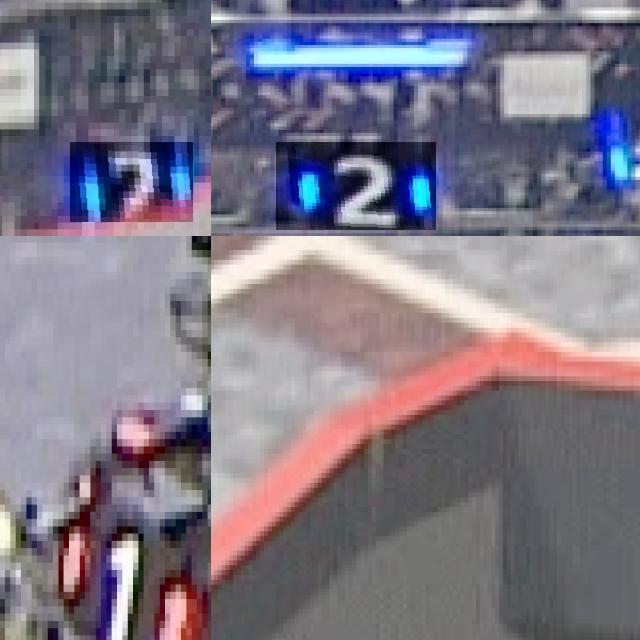B2: (276, 142, 436, 230), (70, 142, 193, 222)
R1: (47, 500, 202, 640)
